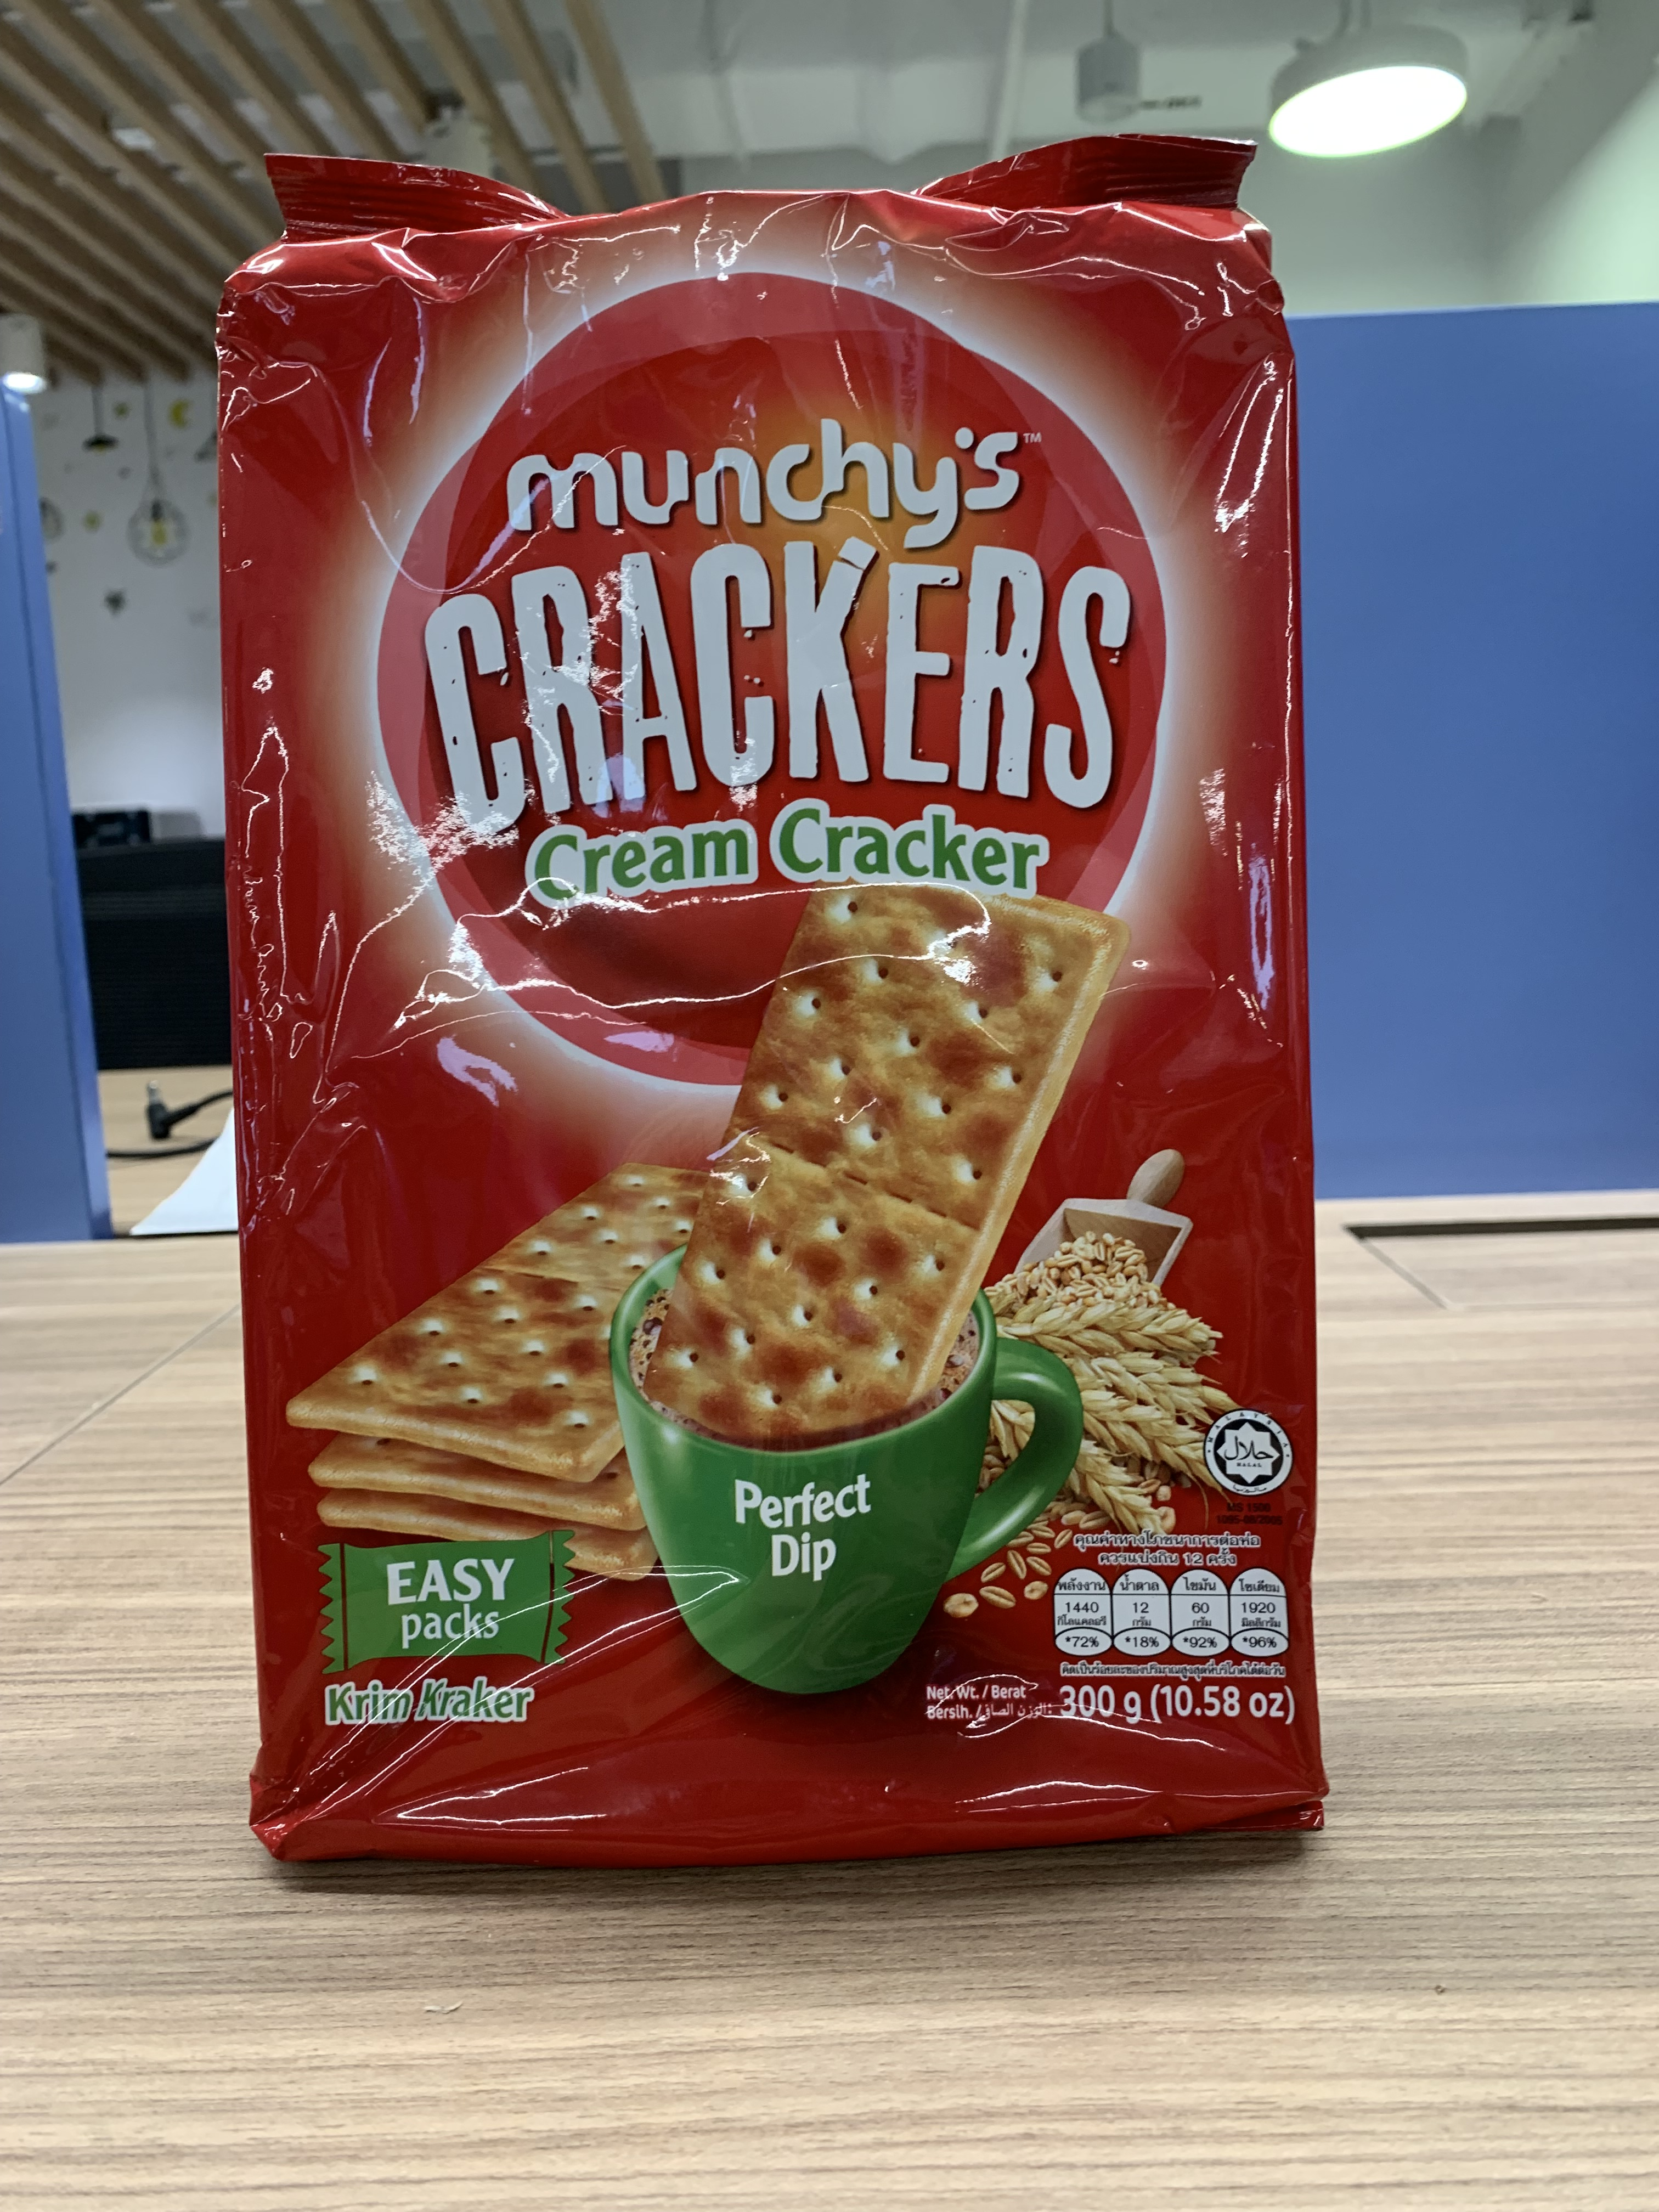crackers: (192, 118, 1349, 1898)
